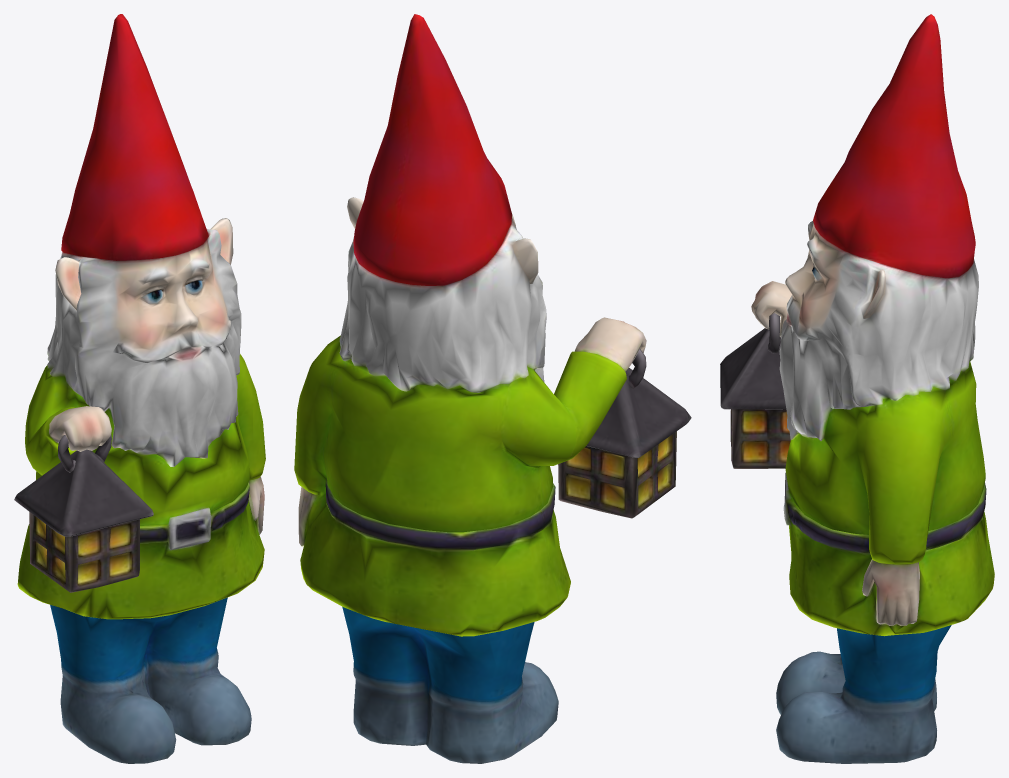
File: garden_gnome.glb
3 views of the same model, side by side, from view 1: azimuth 30°, elevation 25°; view 2: azimuth 150°, elevation 25°; view 3: azimuth 270°, elevation 25° (orthographic). The views are drawn at different scales.
Visible parts, largest first — view 1: garden_gnome; view 2: garden_gnome; view 3: garden_gnome.
Part boxes in pixels (bbox=[...]): garden_gnome: bbox=[14, 14, 265, 763]; garden_gnome: bbox=[294, 14, 691, 763]; garden_gnome: bbox=[720, 14, 994, 763].
Bounding box in the file's own units: 0.2574 × 0.5985 × 0.2092.
Materials: 1 (1 with a texture image).
